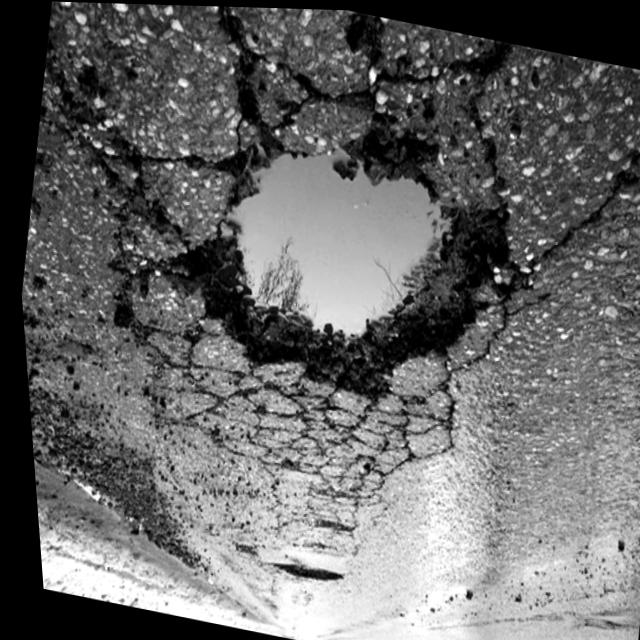pathole: (98, 4, 631, 517), (226, 153, 443, 334), (265, 563, 333, 579)
